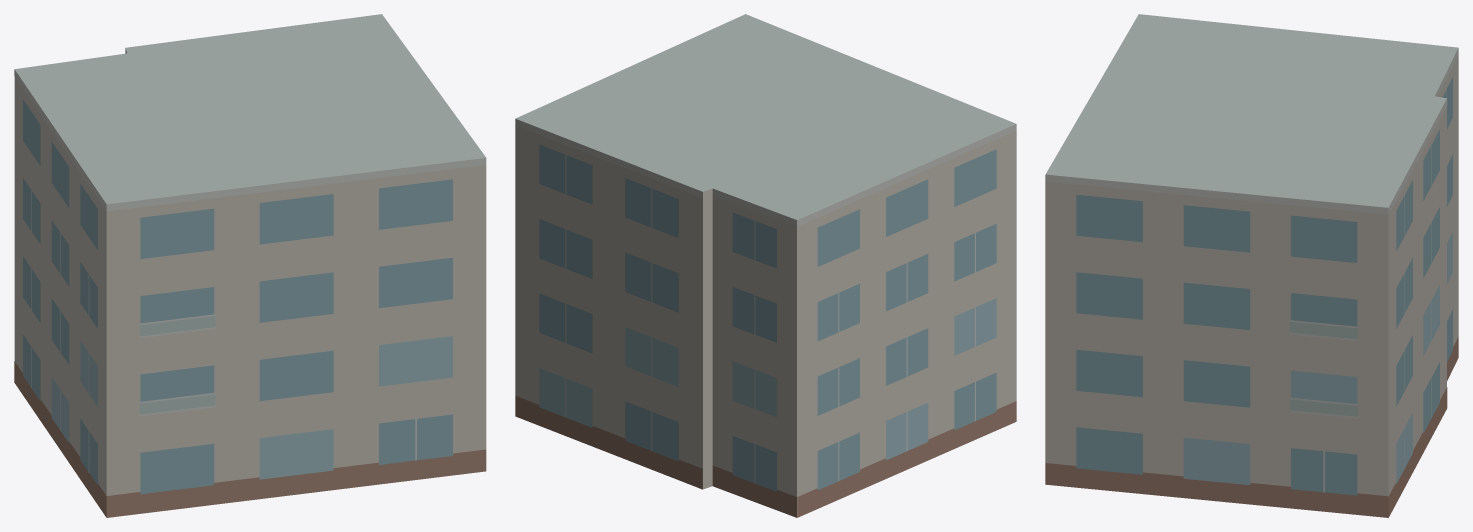
Rendered from survey-upis-32501165.glb.
3 renders of one model, left to right at view 1: azimuth 30°, elevation 25°; view 2: azimuth 150°, elevation 25°; view 3: azimuth 270°, elevation 25°, orthographic. The views are drawn at different scales.
Parts seen in each view (by area): view 1: survey-upis-32501165.tmp; view 2: survey-upis-32501165.tmp; view 3: survey-upis-32501165.tmp.
Boxes of the visible parts, left/top/right/bottom form: survey-upis-32501165.tmp: left=14, top=14, right=486, bottom=517; survey-upis-32501165.tmp: left=515, top=14, right=1016, bottom=517; survey-upis-32501165.tmp: left=1045, top=14, right=1458, bottom=517.
Size of the model in its own units: 14.62 by 10.9 by 13.17.
